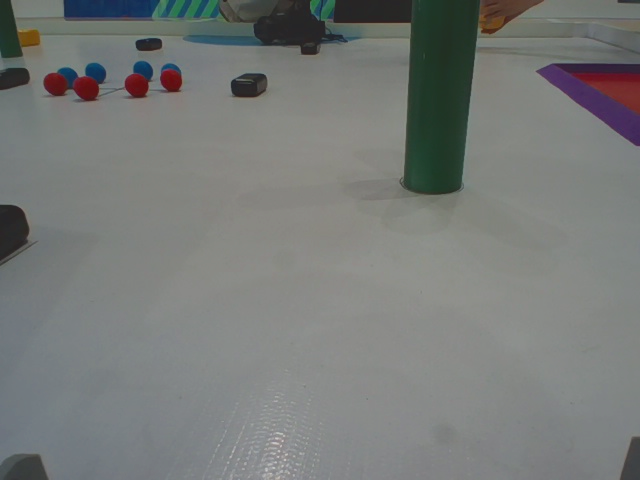black: (1, 198, 32, 258), (229, 71, 270, 98), (1, 66, 35, 98), (130, 36, 162, 52)
blue: (54, 65, 76, 85), (85, 62, 105, 83), (130, 61, 150, 82), (162, 63, 180, 79)
kuang: (536, 56, 640, 167)
red: (73, 77, 99, 102), (124, 72, 151, 96), (42, 72, 64, 97), (160, 71, 183, 92)
yellow: (14, 29, 41, 47)
zhuzi: (400, 1, 473, 194), (1, 1, 24, 60)
